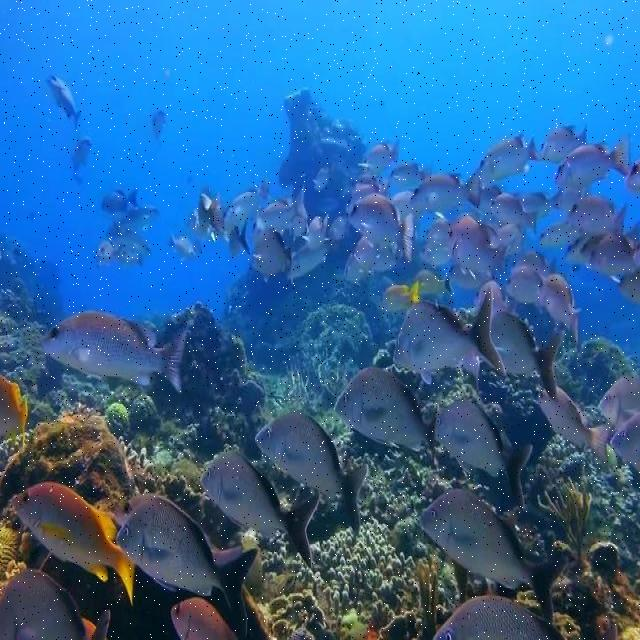fish: (13, 481, 136, 601), (253, 413, 369, 535), (199, 451, 319, 568), (200, 452, 320, 567), (116, 495, 230, 608), (39, 309, 192, 392), (420, 489, 544, 589), (392, 284, 504, 384), (435, 402, 533, 510), (334, 367, 437, 453), (492, 309, 561, 397), (0, 572, 89, 639), (433, 595, 567, 639), (539, 386, 614, 460), (171, 597, 238, 639)
